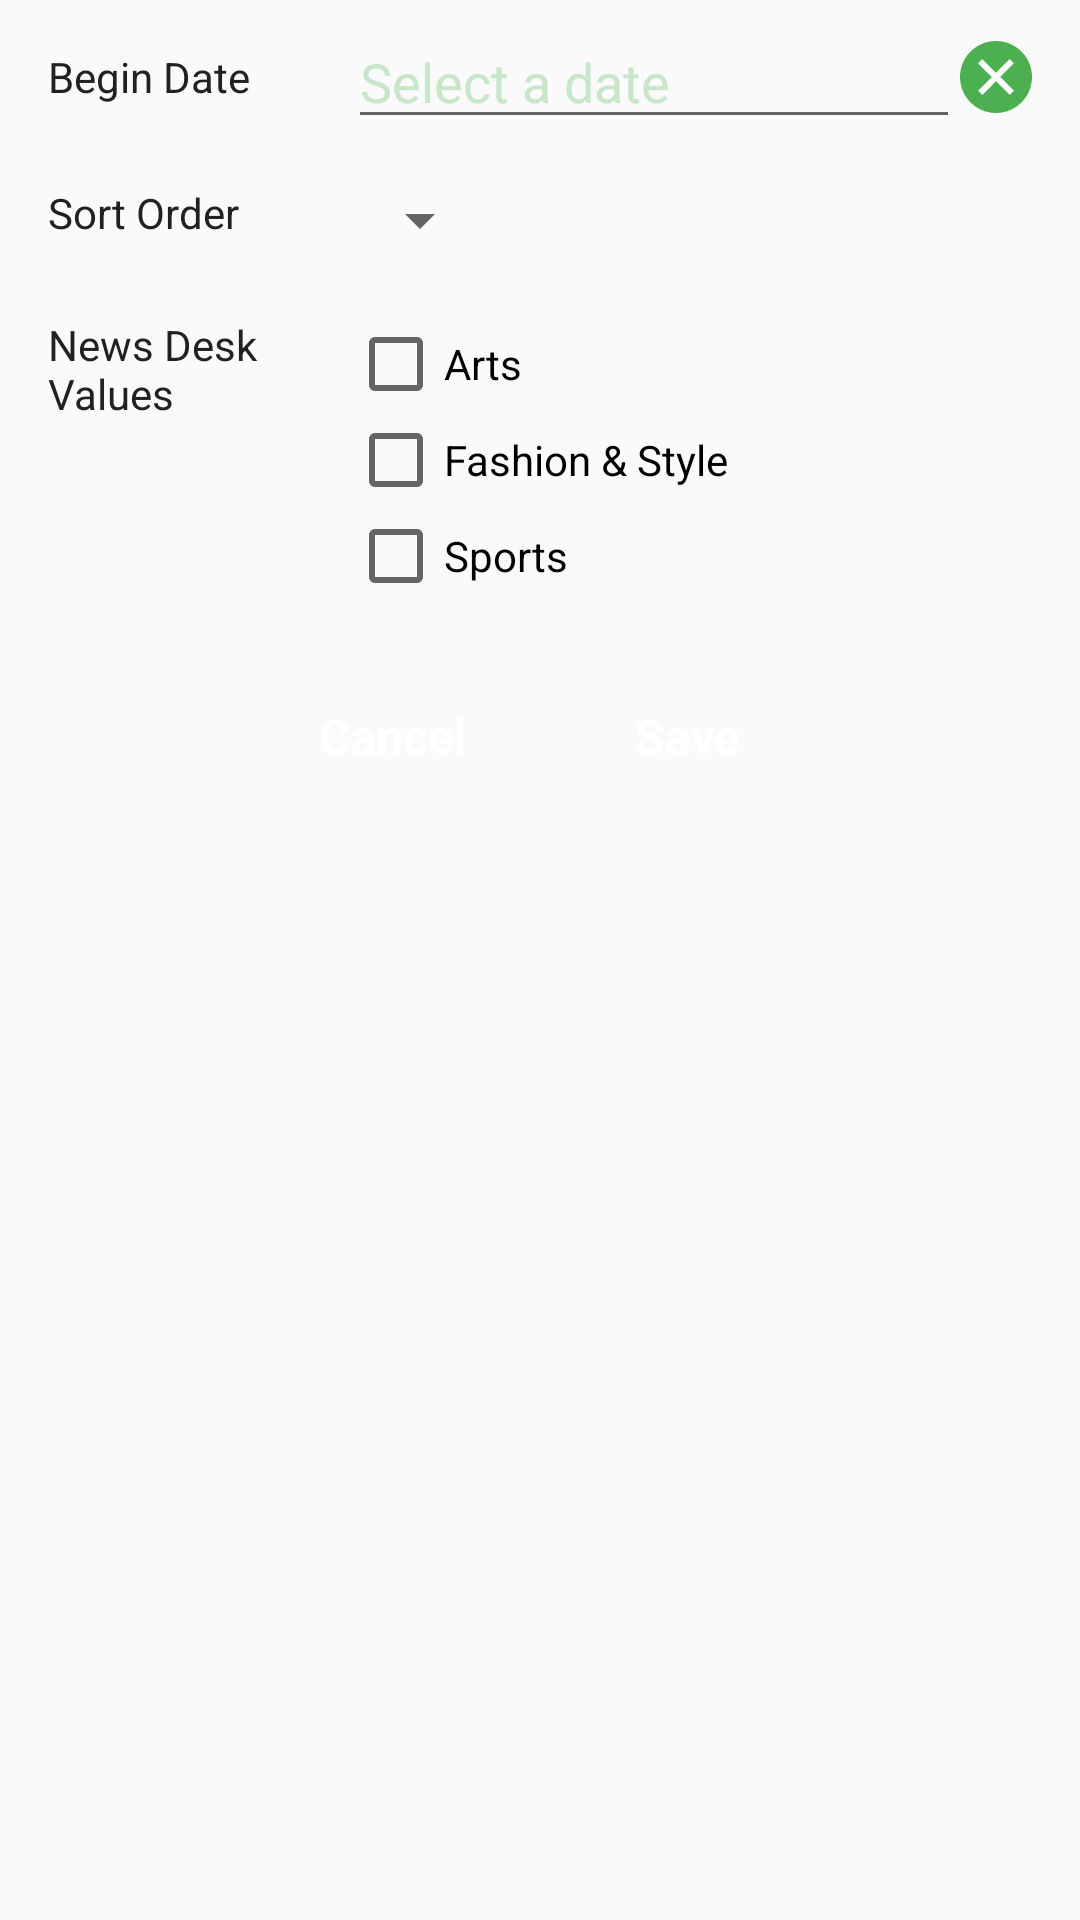

Locate icon controls on the screen. Image size 1080 × 1920, boxes as BBox(x1, y1, x2, y2).
cancel: BBox(960, 41, 1032, 113)
